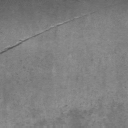finishing roll printing: (0, 10, 94, 54)
